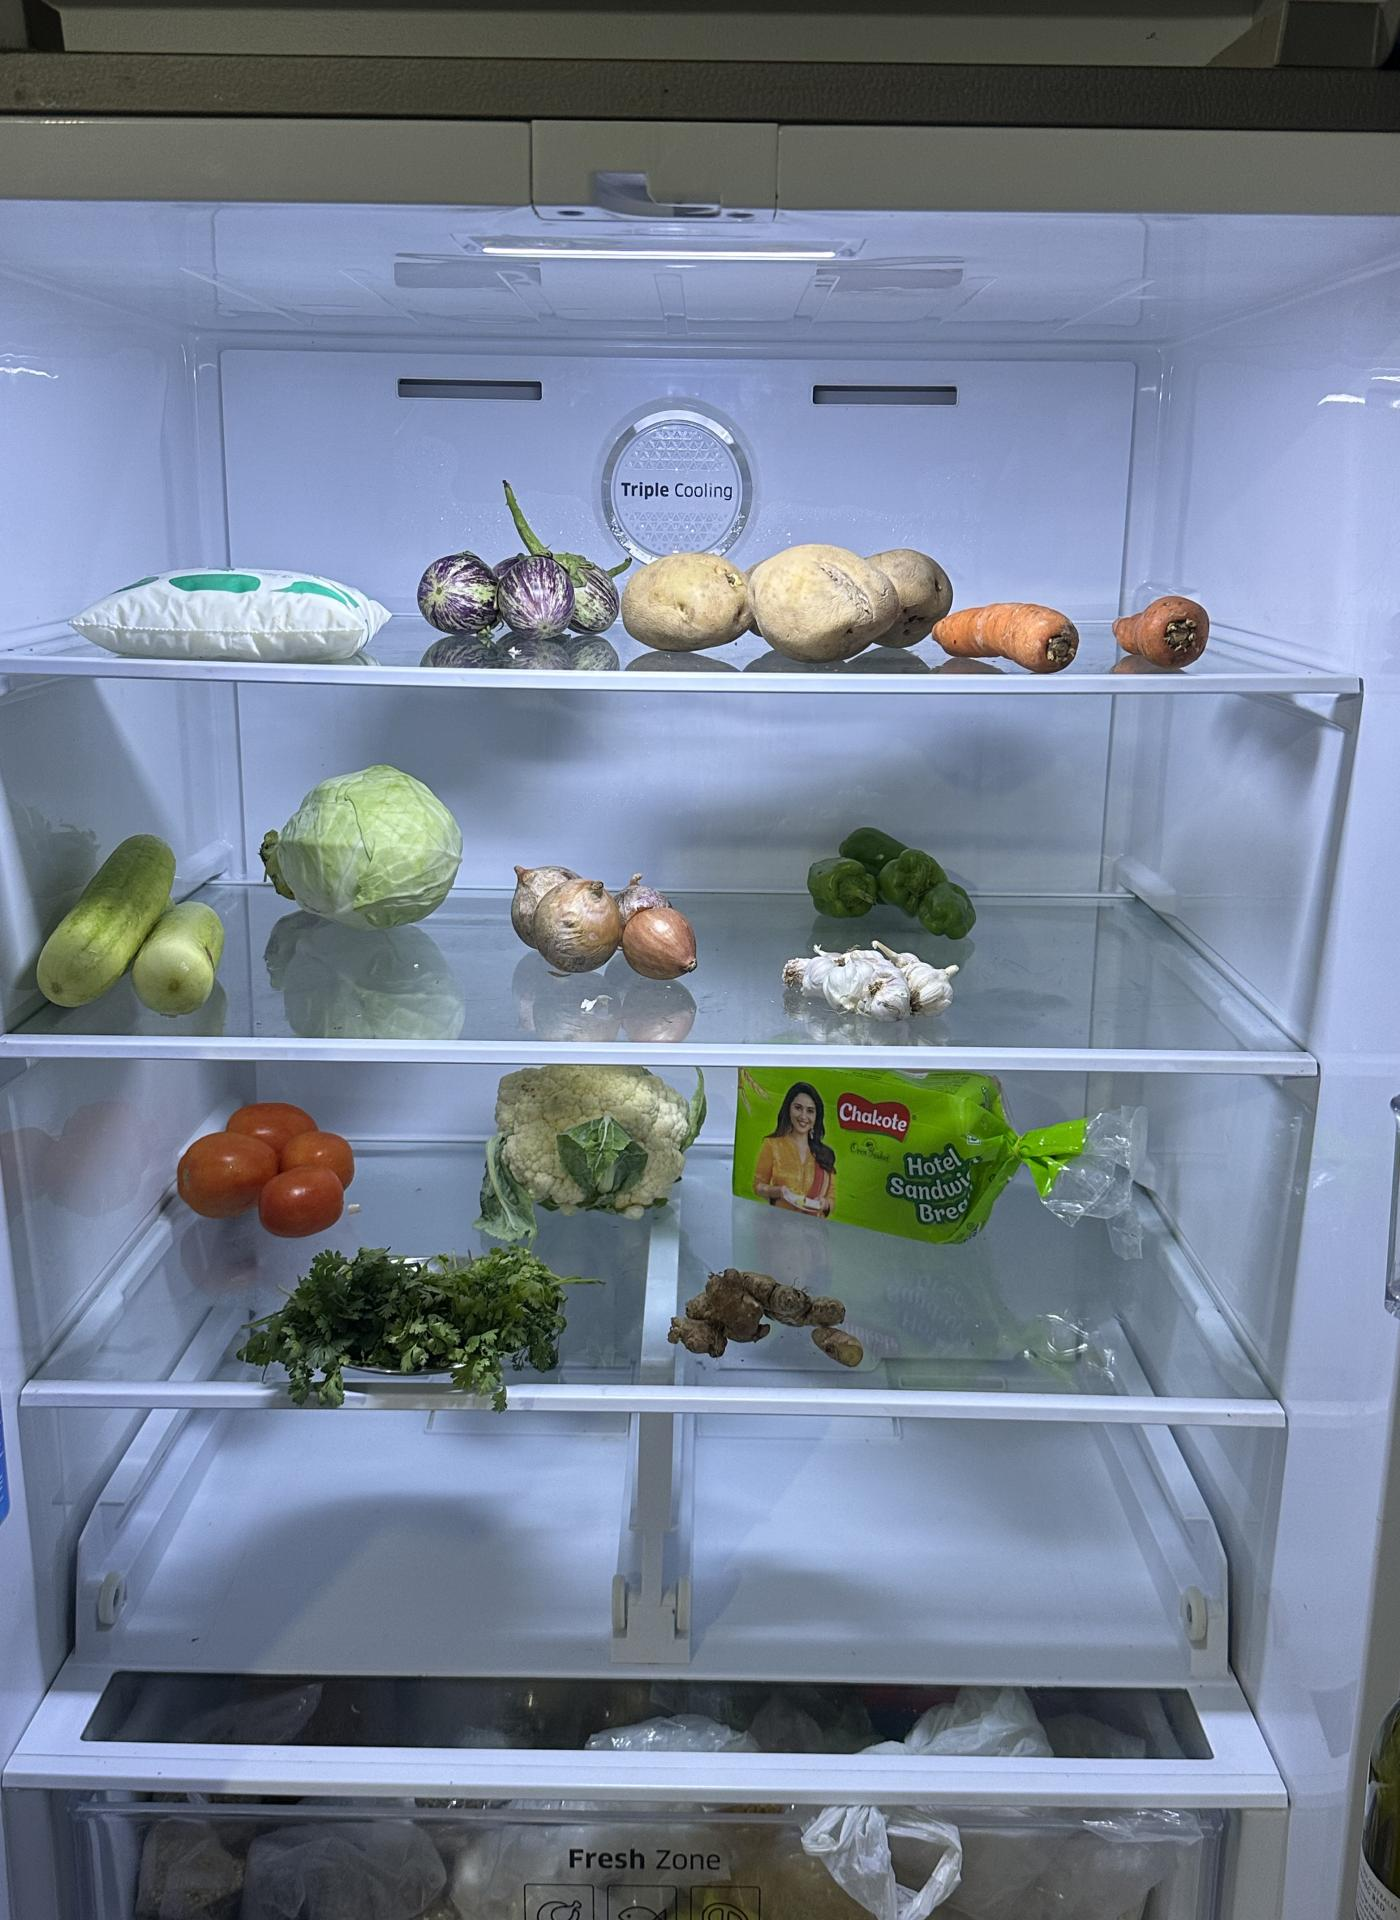bread: (723, 1057, 1017, 1239)
brinjal: (416, 543, 619, 638)
cabbage: (259, 769, 462, 935)
capsicum: (810, 821, 980, 941)
carrots: (935, 598, 1208, 668)
cauliflower: (479, 1058, 701, 1213)
coriander: (245, 1240, 567, 1394)
cucumber: (27, 833, 231, 1020)
garlic: (774, 936, 954, 1021)
ginger: (662, 1267, 868, 1376)
milk: (63, 562, 382, 668)
onion: (505, 859, 696, 976)
potato: (625, 549, 944, 651)
tomato: (171, 1091, 355, 1230)
